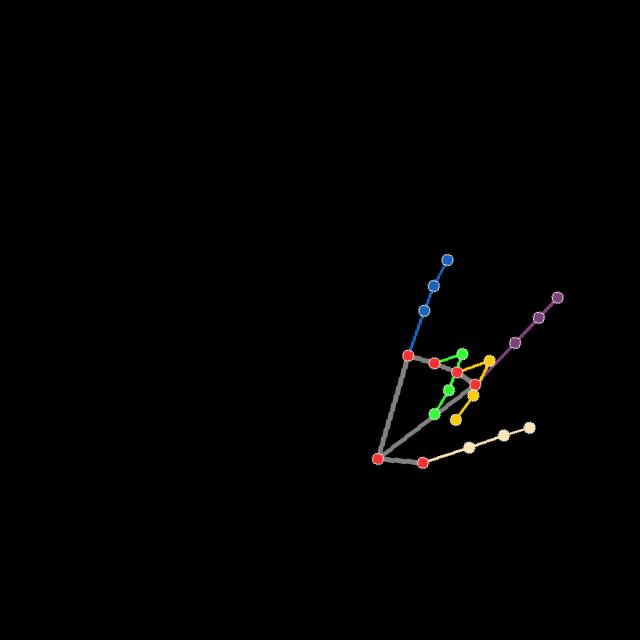spiderman: (368, 244, 566, 471)
